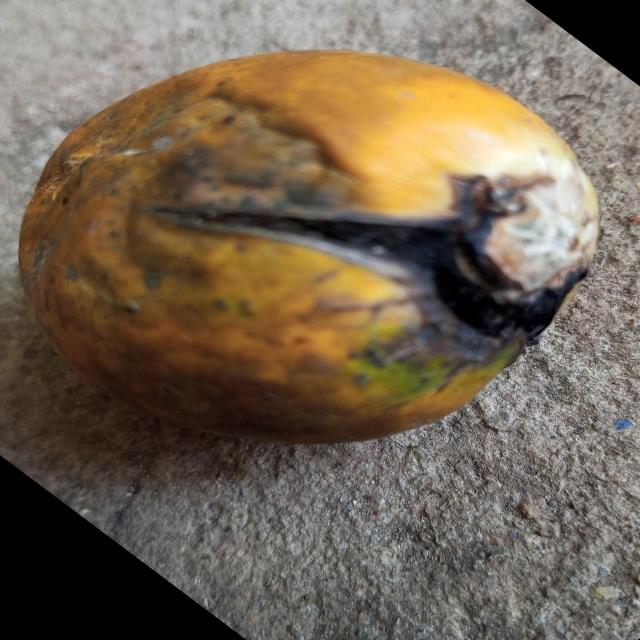damaged: (19, 51, 598, 443)
